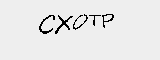О: (72, 14, 86, 32)
Р: (99, 11, 113, 31)
С: (38, 14, 56, 38)
Т: (88, 12, 100, 29)
Х: (55, 12, 72, 37)
